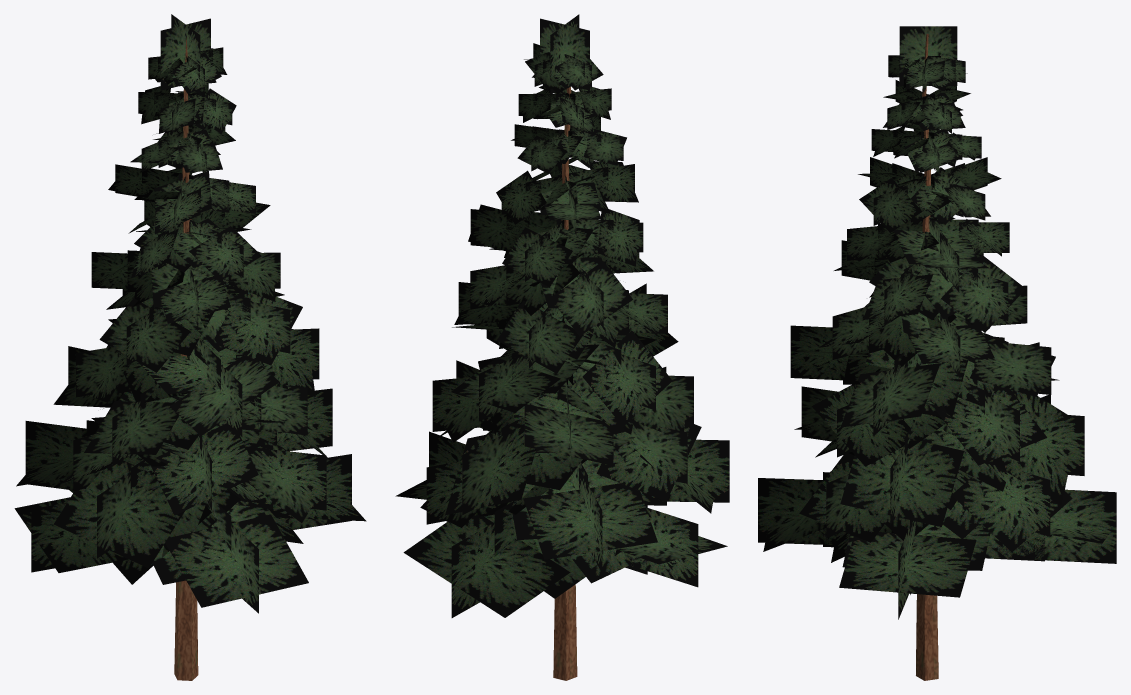
File: Pine_1_LOD1.gltf
3 renders of one model, left to right at view 1: azimuth 30°, elevation 25°; view 2: azimuth 150°, elevation 25°; view 3: azimuth 270°, elevation 25°, orthographic.
Parts seen in each view (by area): view 1: Pine_1_LOD1; view 2: Pine_1_LOD1; view 3: Pine_1_LOD1.
Part boxes in pixels (left/top/right/bottom): Pine_1_LOD1: left=14, top=14, right=366, bottom=680; Pine_1_LOD1: left=395, top=14, right=729, bottom=680; Pine_1_LOD1: left=758, top=26, right=1116, bottom=680.
Bounding box in the file's own units: 8.26 × 17.18 × 8.6.
2 materials, 2 textured.
